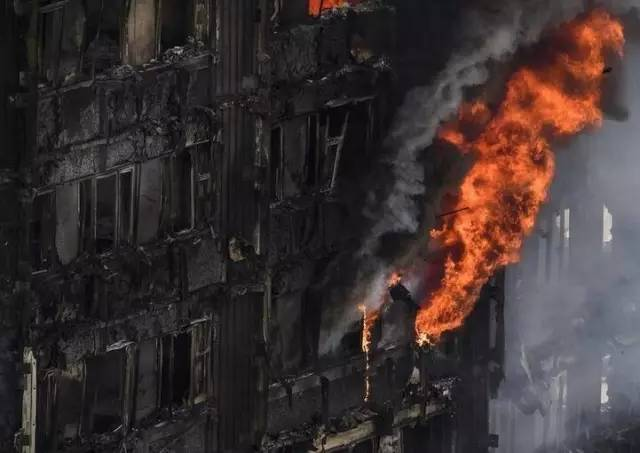fire: (414, 4, 624, 337)
